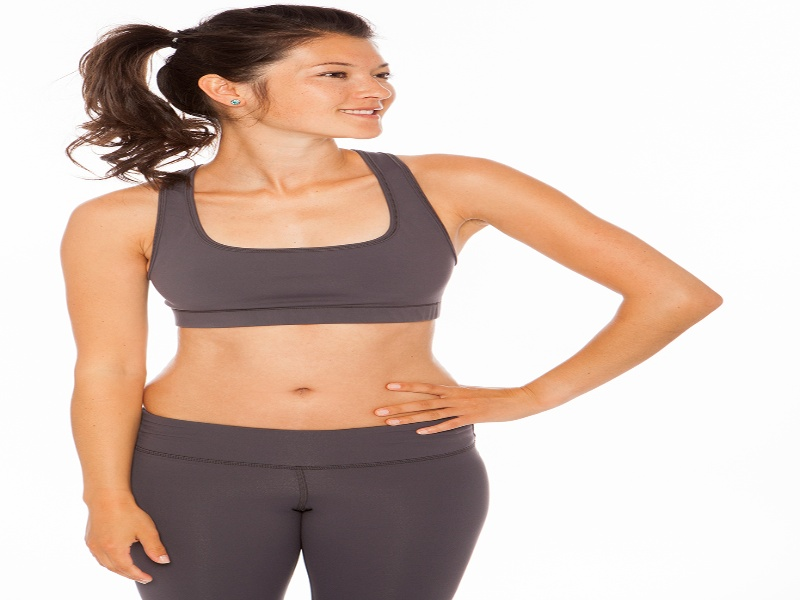face: (211, 24, 398, 152)
